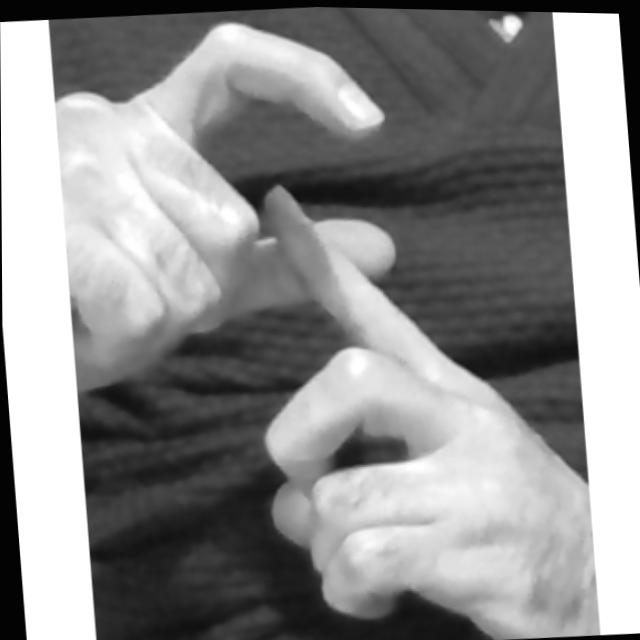C_: (51, 1, 602, 640)
